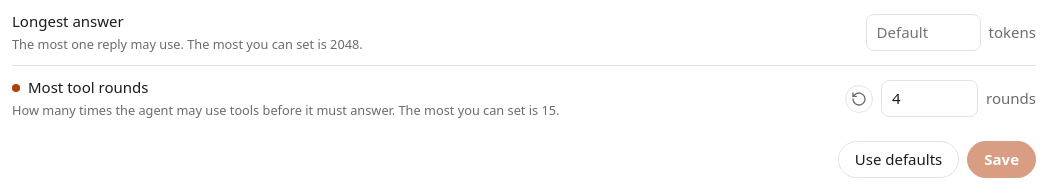
Test: clears both limits
The width and height of the screenshot is (1048, 195).
Click the button with test id "clear" at (899, 160), box x1=838 y1=141 x2=959 y2=178
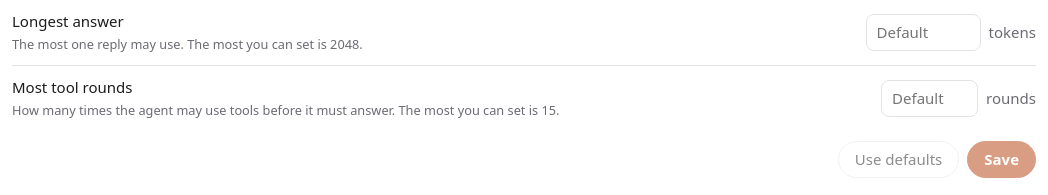
Now the number field with placeholder "Default" in the row of "Most tool rounds" is empty, box x1=881 y1=80 x2=978 y2=117
